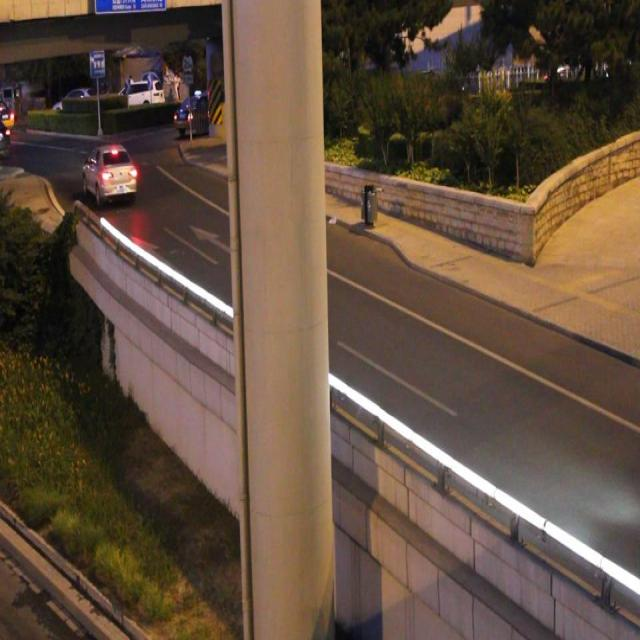car: (82, 147, 136, 197)
